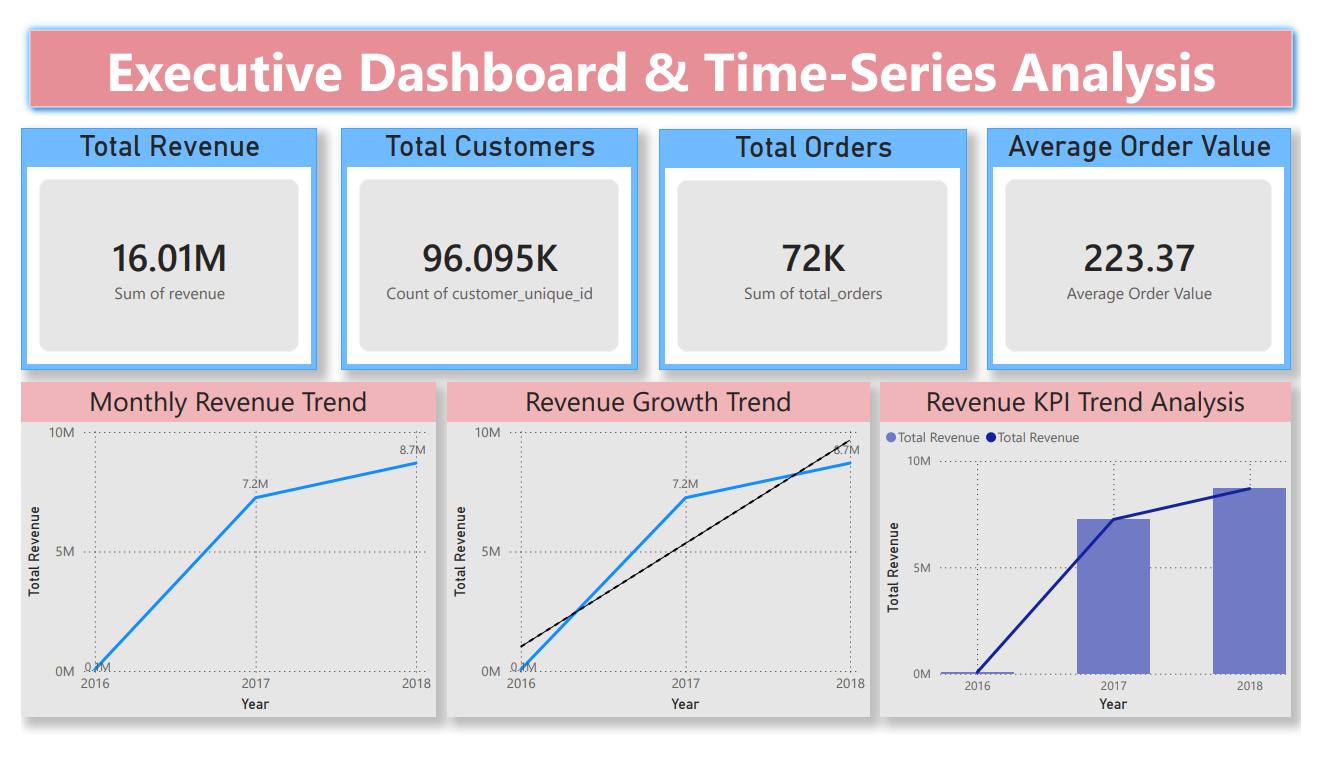

The page's visual inventory and layout, read from the dashboard file:
{"tool":"powerbi","page":{"name":"Executive Dashboard & Time-Series Analysis","canvas":[1280,720],"ordinal":0},"visuals":[{"type":"cardVisual","title":"Total Revenue","fields":{"Data":["Sum(monthly_revenue.revenue)"]},"box":[0,106.8,296.4,242.4],"z":0},{"type":"cardVisual","title":"Total Customers","fields":{"Data":["Count(rfm_analysis.customer_unique_id)"]},"box":[320.3,106.8,296.4,242.4],"z":1000},{"type":"cardVisual","title":"Total Orders","fields":{"Data":["Sum(top_product_categories.total_orders)"]},"box":[638.1,108,307.8,241.2],"z":2000},{"type":"cardVisual","title":"Average Order Value","fields":{"Data":["customer_retention_analysis.Average Order Value"]},"box":[966,106.8,304,242.4],"z":3000},{"type":"lineChart","title":"Monthly Revenue Trend","fields":{"Category":["monthly_revenue.month.Variation.Date Hierarchy.Year","monthly_revenue.month.Variation.Date Hierarchy.Quarter","monthly_revenue.month.Variation.Date Hierarchy.Month","monthly_revenue.month.Variation.Date Hierarchy.Day"],"Y":["Sum(monthly_revenue.revenue)"]},"box":[0,360.5,414.5,335.4],"z":4000},{"type":"lineChart","title":"Revenue Growth Trend","fields":{"Category":["monthly_revenue.month.Variation.Date Hierarchy.Year","monthly_revenue.month.Variation.Date Hierarchy.Quarter","monthly_revenue.month.Variation.Date Hierarchy.Month","monthly_revenue.month.Variation.Date Hierarchy.Day"],"Y":["Sum(monthly_revenue.revenue)"]},"box":[425.8,360.5,423.3,335.4],"z":5000},{"type":"lineClusteredColumnComboChart","title":"Revenue KPI Trend Analysis","fields":{"Category":["monthly_revenue.month.Variation.Date Hierarchy.Year","monthly_revenue.month.Variation.Date Hierarchy.Quarter","monthly_revenue.month.Variation.Date Hierarchy.Month","monthly_revenue.month.Variation.Date Hierarchy.Day"],"Y":["Sum(monthly_revenue.revenue)"],"Y2":["Sum(monthly_revenue.revenue)"]},"box":[859.2,360.5,410.8,335.4],"z":6000},{"type":"shape","box":[0,0,1280,95.5],"z":7000}]}

Visuals, with their boxes in screenshot pixels (x1, y1, x2, y2), scaled from the page's 1280x720 canvas onto the 1321x757 screenshot:
"Total Revenue" cardVisual: 0/112/306/367
"Total Customers" cardVisual: 331/112/636/367
"Total Orders" cardVisual: 659/114/976/367
"Average Order Value" cardVisual: 997/112/1311/367
"Monthly Revenue Trend" lineChart: 0/379/428/732
"Revenue Growth Trend" lineChart: 439/379/876/732
"Revenue KPI Trend Analysis" lineClusteredColumnComboChart: 887/379/1311/732
shape: 0/0/1320/100
